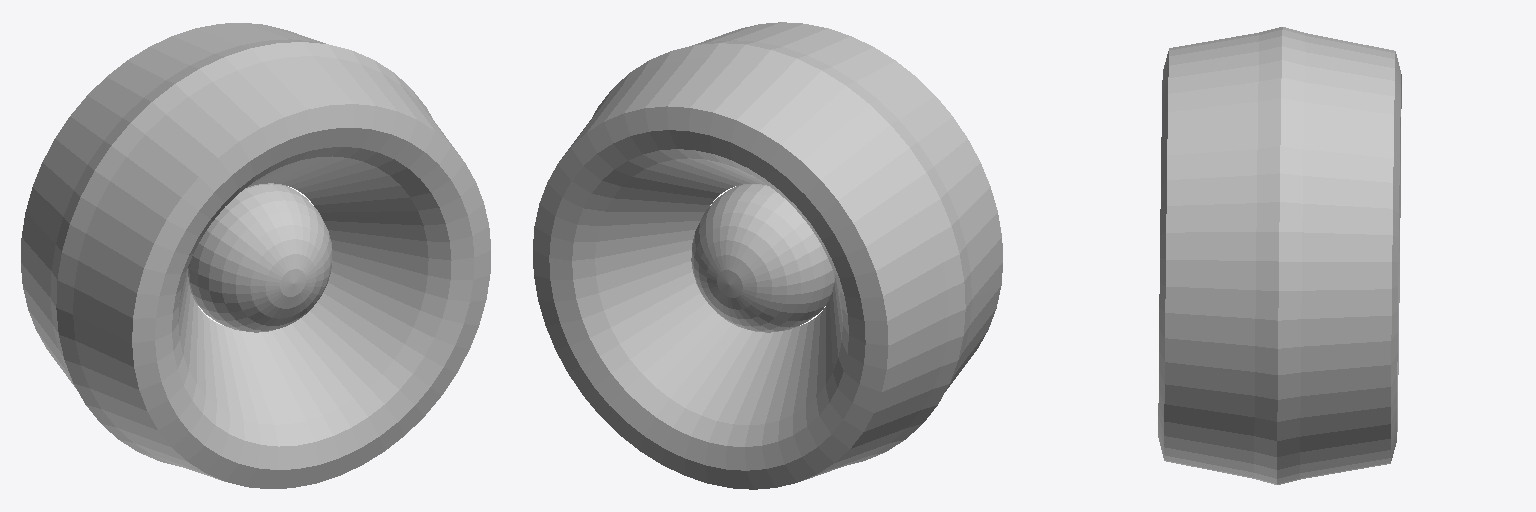
Rendered from rueda_delantera_derecha.obj.
The picture shows the model from 3 angles: view 1: azimuth 30°, elevation 25°; view 2: azimuth 150°, elevation 25°; view 3: azimuth 270°, elevation 25°; orthographic projection.
Parts seen in each view (by area): view 1: Torus.003_Torus.005; view 2: Torus.003_Torus.005; view 3: Torus.003_Torus.005.
Part boxes in pixels (bbox=[...]): Torus.003_Torus.005: bbox=[21, 23, 490, 488]; Torus.003_Torus.005: bbox=[533, 22, 1002, 489]; Torus.003_Torus.005: bbox=[1158, 27, 1401, 484].
Size of the model in its own units: 2.1 by 2.1 by 1.11.